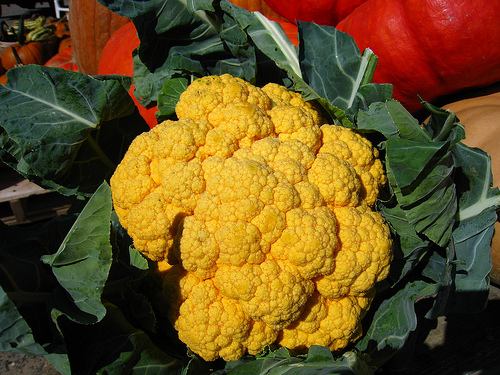cauliflower: (109, 72, 394, 362)
